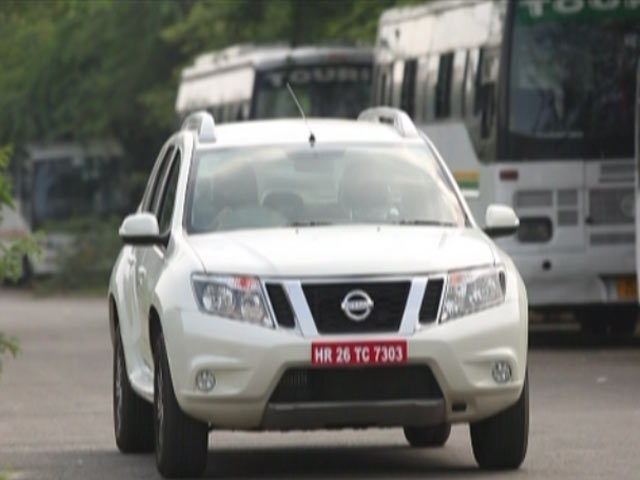number_plate: (310, 334, 416, 372)
